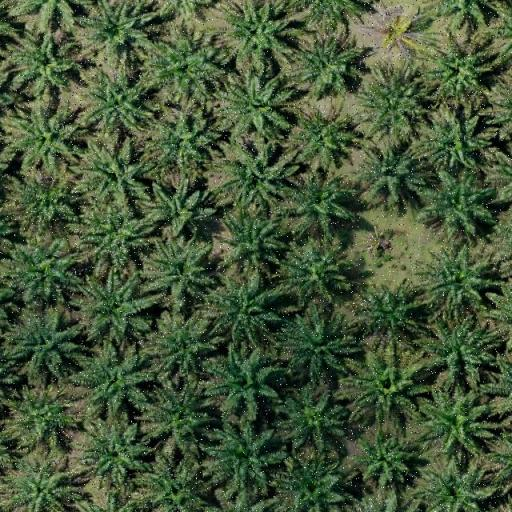Ganoderma: (375, 14, 418, 50)
